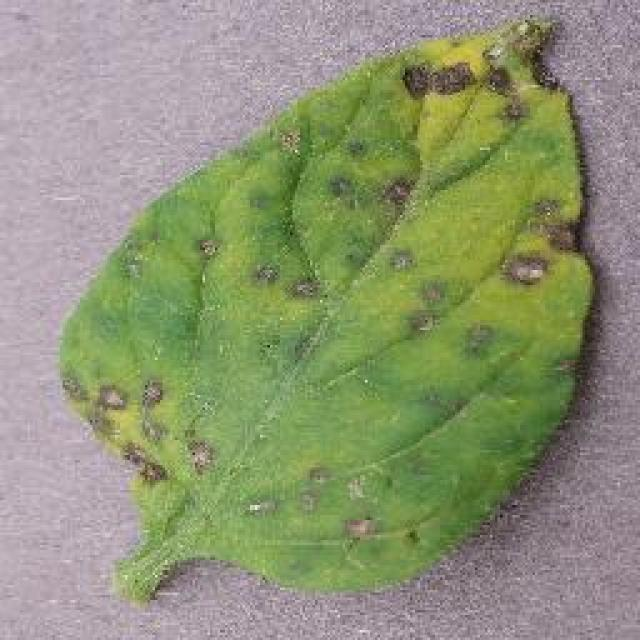Tomato Septoria spot leaf: (57, 14, 595, 594)
